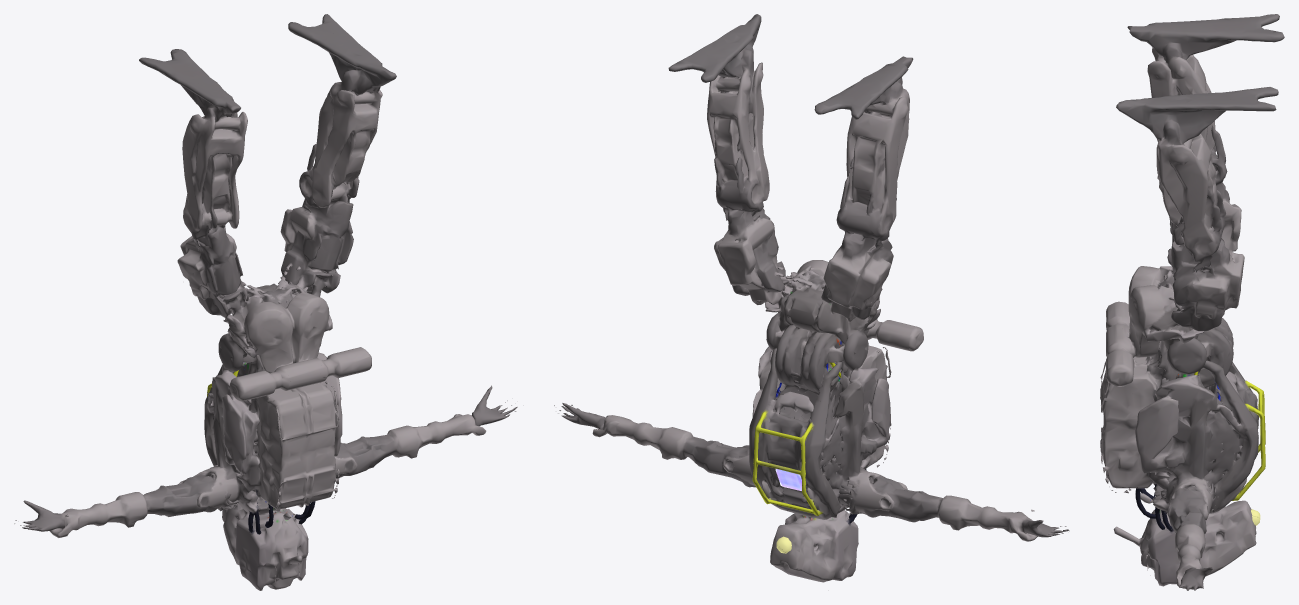
File: robot.glb
The picture shows the model from 3 angles, left to right: view 1: azimuth 30°, elevation 25°; view 2: azimuth 150°, elevation 25°; view 3: azimuth 270°, elevation 25°; orthographic projection. The views are drawn at different scales.
Parts seen in each view (by area): view 1: corps; view 2: corps; view 3: corps.
Part boxes in pixels (x1,y1,x2,y2): corps: [14, 14, 517, 590]; corps: [554, 14, 1069, 582]; corps: [1100, 14, 1284, 590].
Size of the model in its own units: 2.44 by 2.38 by 0.7522.
Materials: 3 (3 with a texture image).
